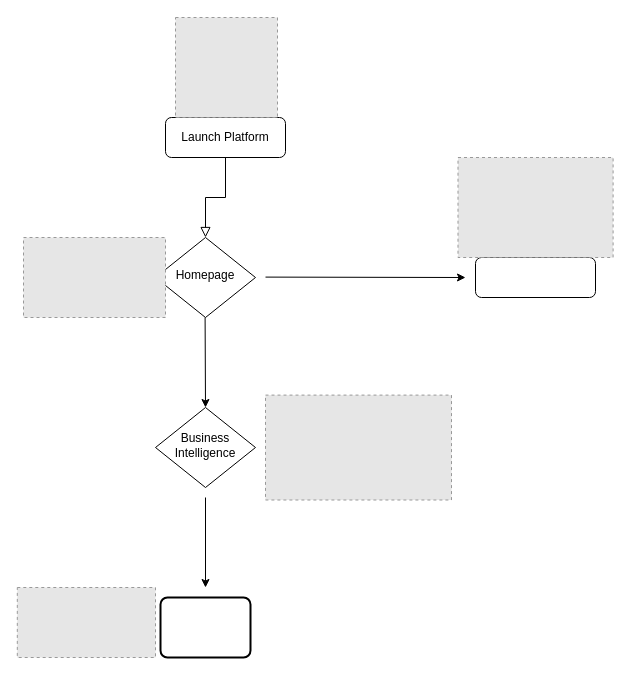
Some shapes in this 631 by 676 pixel diagram are drawn without their labels. Grey dashed boxes stand in for pictures. Here are the shapes that lost their labels. From the top down, the centre of each, then its label:
pixel 535 277: Brokerage Capabilities
pixel 205 627: AI Functionality
